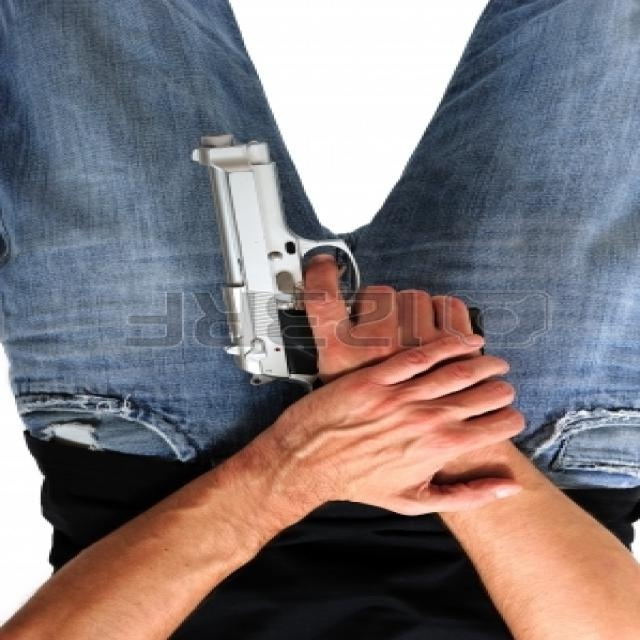gun: (163, 118, 533, 424)
